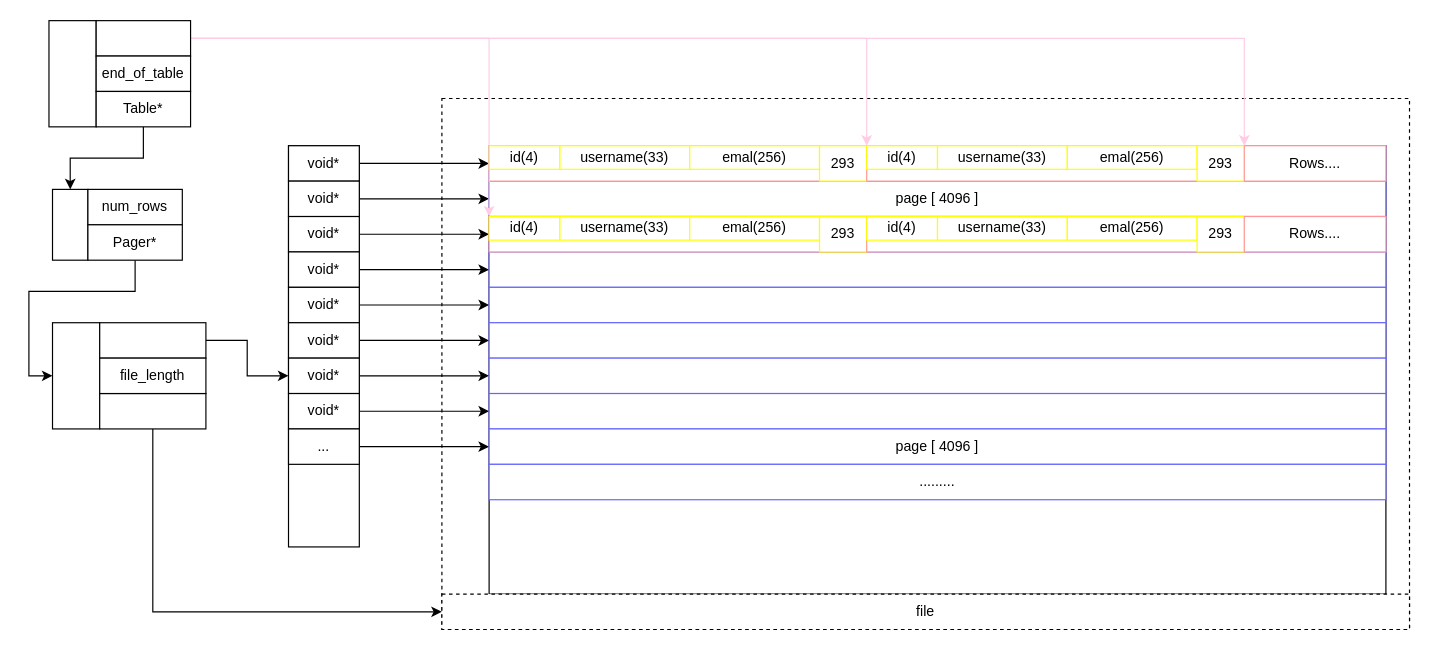
The diagram is 1430 pixels wide and 650 high, and some of its shapes have lost their labels. The shapes that lost their labels are listed below. From the top down, each one's centre as x and y in pixels, then its label:
At point 143,37: "row_num".
At point 72,73: "Cursor".
At point 69,224: "Table".
At point 152,340: "page[void*]".
At point 75,375: "Pager".
At point 152,410: "file_discriptor".
